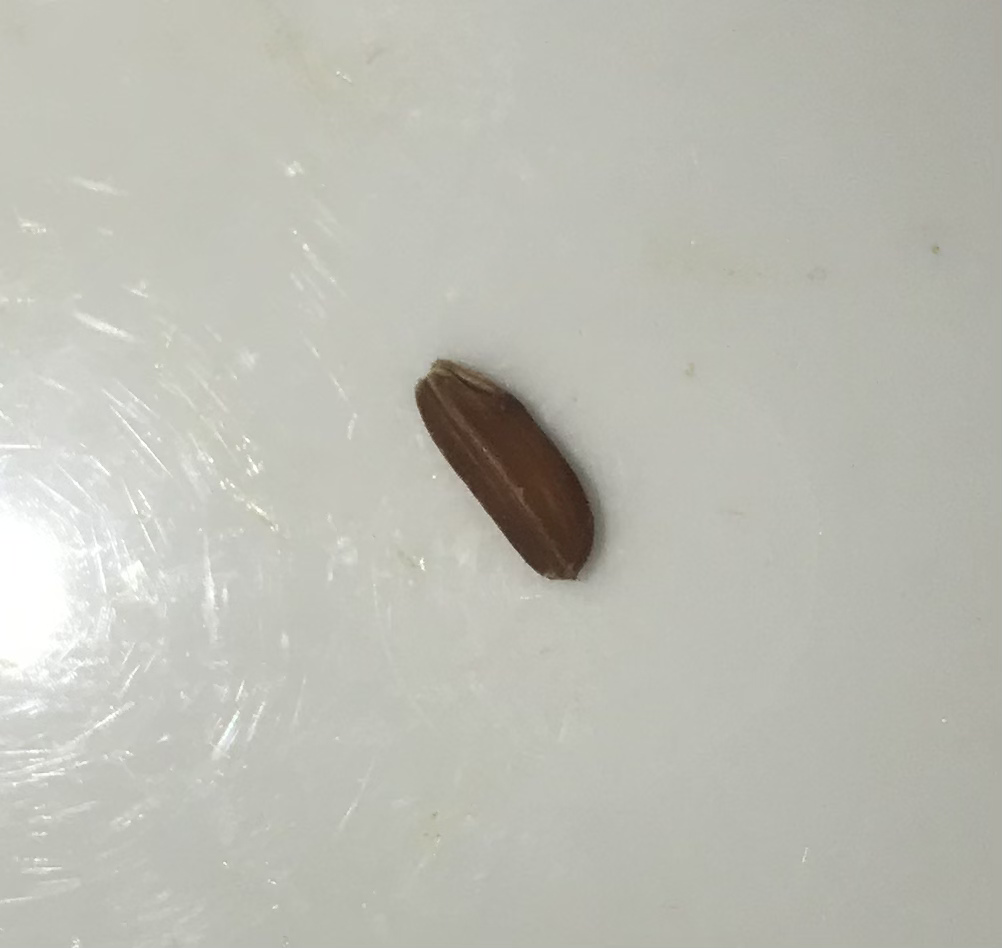Gao Lut Do: (397, 352, 603, 591)
